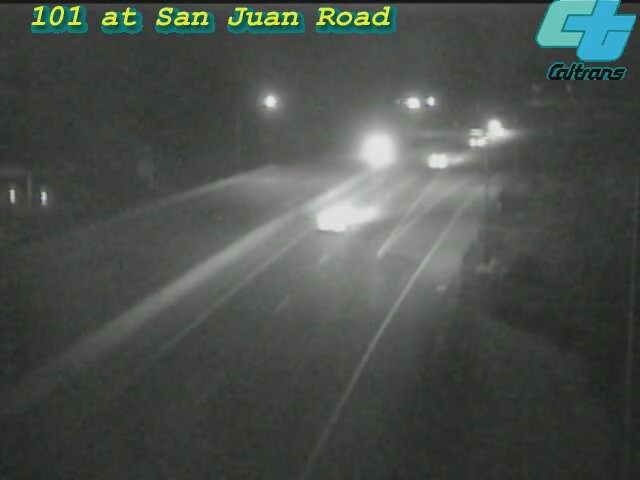vehicle: (396, 123, 476, 203), (298, 179, 378, 259), (356, 123, 406, 173), (471, 101, 521, 151), (471, 109, 521, 159), (453, 114, 503, 164)
